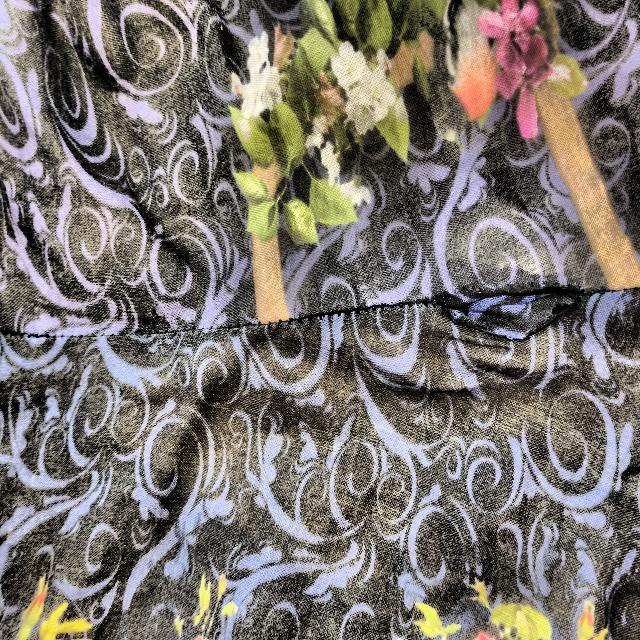seam: (434, 248, 593, 382)
